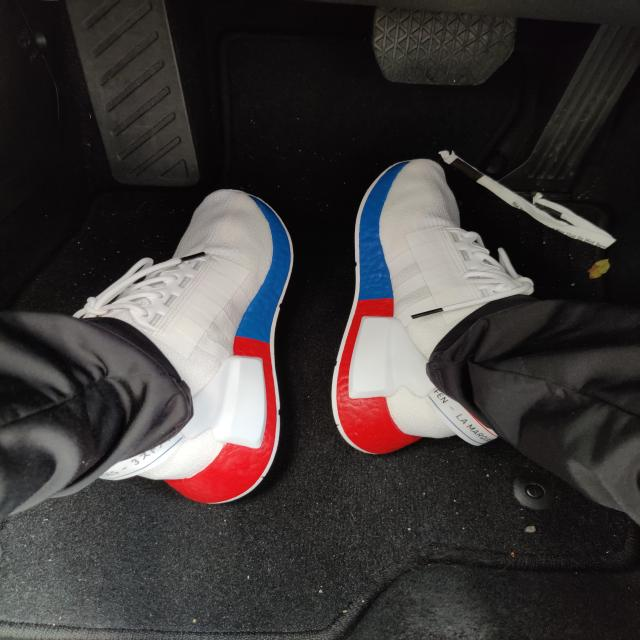shoe: (84, 171, 308, 522), (317, 140, 557, 466)
